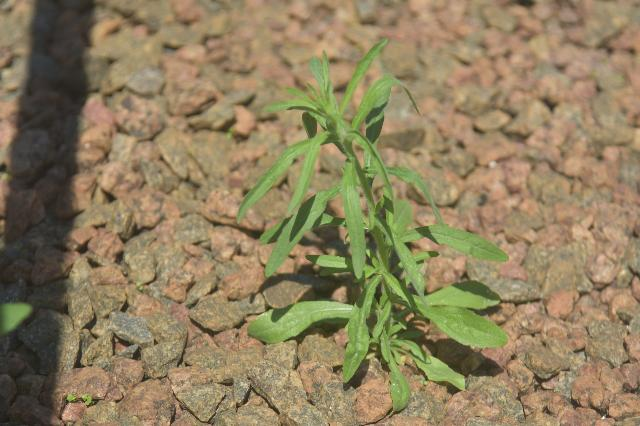MalezaMontesDelPlata: (235, 30, 512, 421)
